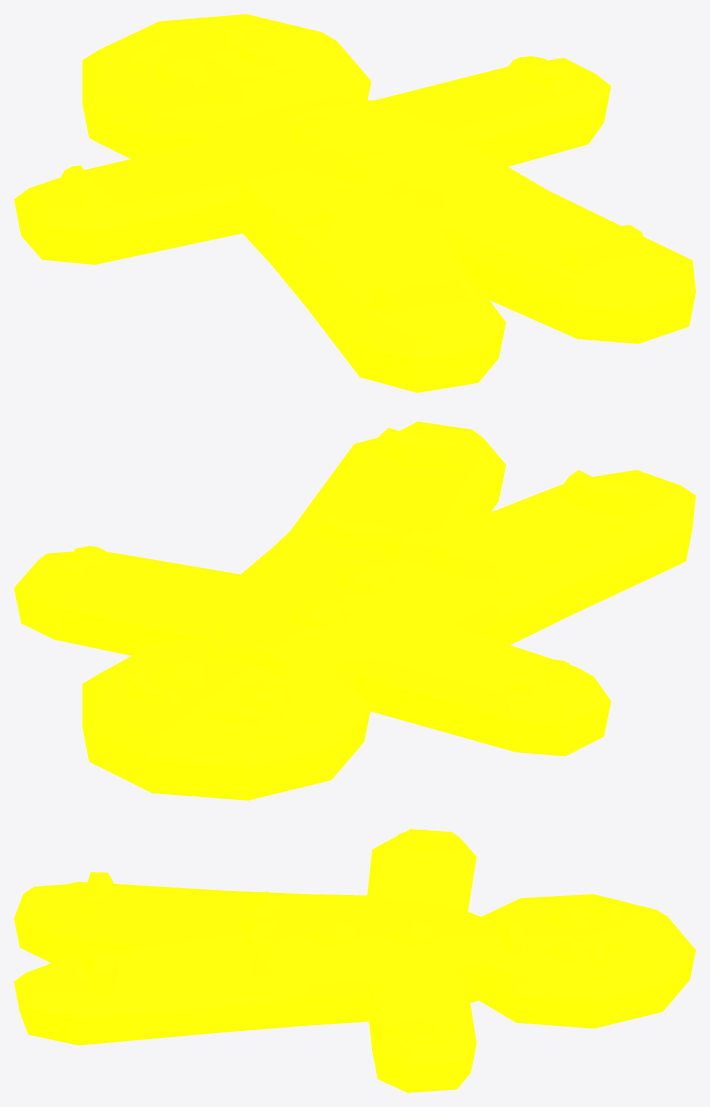
Rendered from gingerbread-man.glb.
3 views of the same model, one above another, from view 1: azimuth 30°, elevation 25°; view 2: azimuth 150°, elevation 25°; view 3: azimuth 270°, elevation 25° (orthographic). The views are drawn at different scales.
Parts seen in each view (by area): view 1: gingerbread_man; view 2: gingerbread_man; view 3: gingerbread_man.
Part boxes in pixels (box(x1,y1,x2,y2)): gingerbread_man: box(14, 14, 695, 392); gingerbread_man: box(14, 421, 695, 800); gingerbread_man: box(14, 829, 695, 1092).
Size of the model in its own units: 0.1364 by 0.0158 by 0.1701.
Materials: 1 (1 with a texture image).
